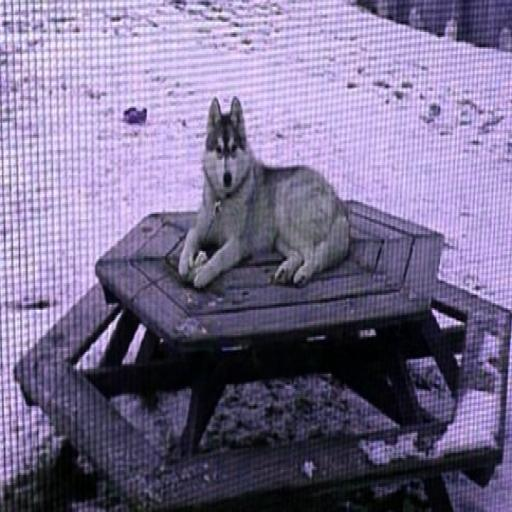dog_face: (205, 93, 250, 198)
